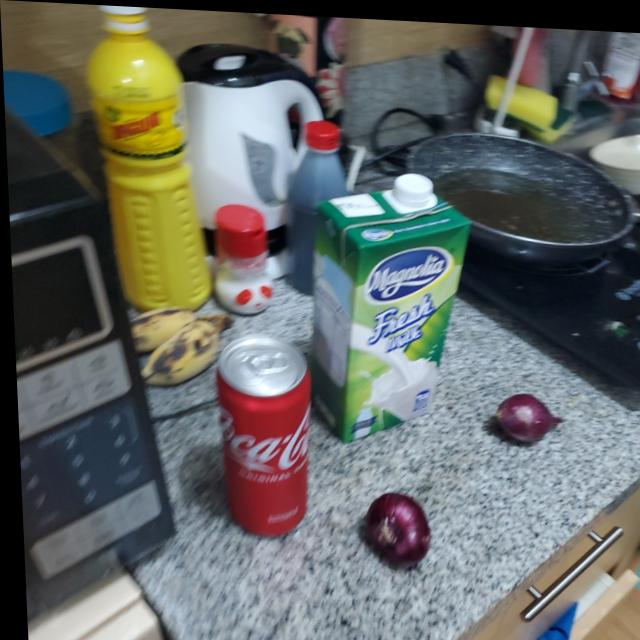coke: (211, 331, 313, 528)
milk: (304, 165, 482, 442)
onion: (357, 484, 426, 563), (486, 388, 560, 441)
